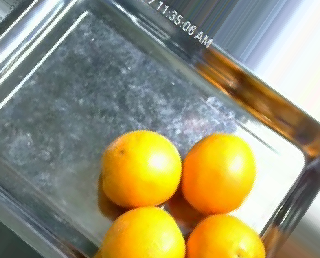Orange: (102, 129, 182, 209), (181, 132, 256, 216), (101, 207, 187, 258), (185, 214, 266, 258)
